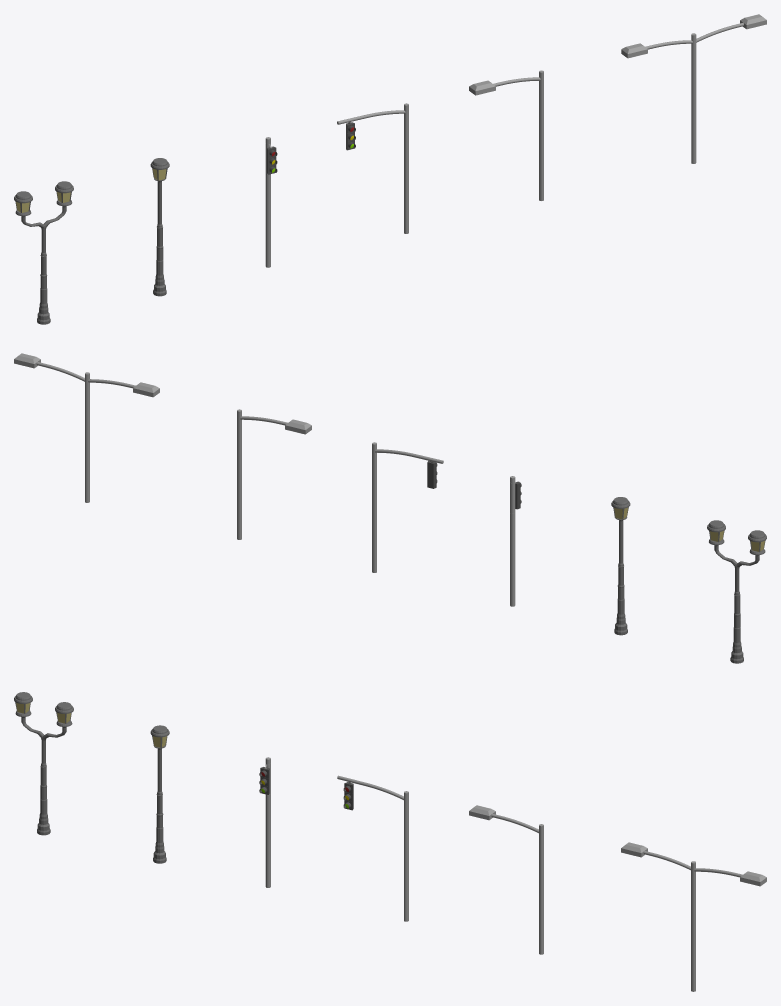
The model's file is City_Lights.fbx.
The picture shows the model from 3 angles, top to bottom: view 1: azimuth 30°, elevation 25°; view 2: azimuth 150°, elevation 25°; view 3: azimuth 330°, elevation 25°; orthographic projection.
Parts seen in each view (by area): view 1: RoadLight1, StreetLight, TrafficLight1, StreetLight1, RoadLight, TrafficLight; view 2: StreetLight, RoadLight1, TrafficLight1, StreetLight1, RoadLight, TrafficLight; view 3: StreetLight, RoadLight1, TrafficLight1, StreetLight1, RoadLight, TrafficLight.
Boxes of the visible parts, x1,y1,x2,y2 form: RoadLight1: (621, 14, 766, 163); StreetLight: (14, 181, 73, 324); TrafficLight1: (337, 103, 408, 233); StreetLight1: (150, 158, 169, 296); RoadLight: (469, 70, 543, 200); TrafficLight: (265, 137, 277, 267); StreetLight: (707, 520, 766, 663); RoadLight1: (14, 353, 159, 502); TrafficLight1: (372, 442, 443, 572); StreetLight1: (611, 497, 630, 635); RoadLight: (237, 409, 311, 539); TrafficLight: (510, 476, 521, 606); StreetLight: (14, 692, 73, 835); RoadLight1: (621, 842, 766, 991); TrafficLight1: (337, 775, 408, 921); StreetLight1: (150, 725, 169, 863); RoadLight: (469, 805, 543, 954); TrafficLight: (259, 757, 270, 887).
Size of the model in its own units: 27.52 by 4.66 by 0.6969.
